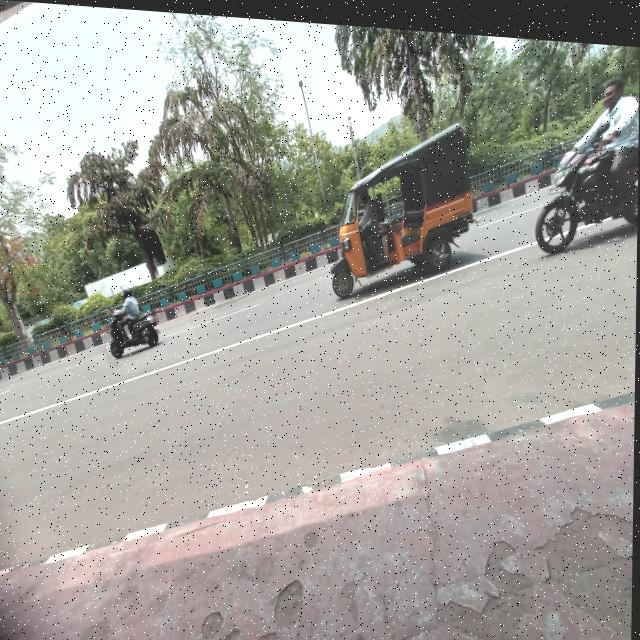bike: (533, 135, 634, 257), (102, 307, 169, 361)
